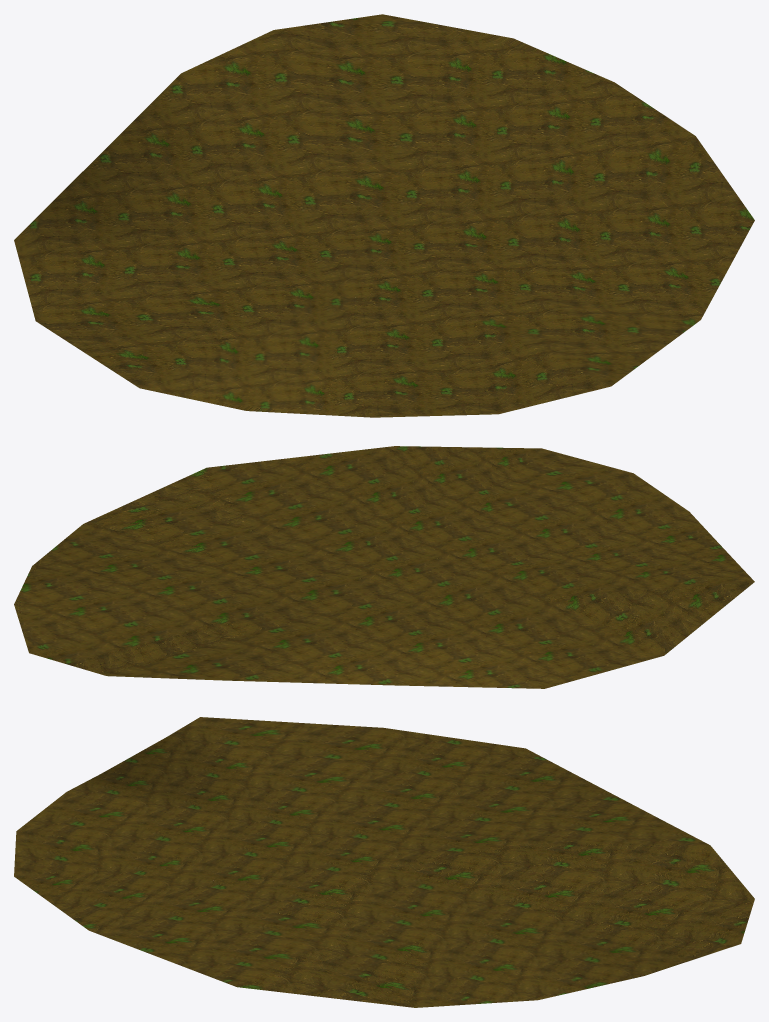
Rendered from INST_PITCOVER_GROUND.obj.
The picture shows the model from 3 angles, top to bottom: view 1: azimuth 30°, elevation 25°; view 2: azimuth 150°, elevation 25°; view 3: azimuth 270°, elevation 25°; orthographic projection. The views are drawn at different scales.
Visible parts, largest first — view 1: Object13, Object12, Object16, Object14, Object15, Object05, Object17, Object06, Object10, Object11, Object09, Object08 (+1 smaller); view 2: Object13, Object12, Object14, Object16, Object15, Object05, Object17, Object06, Object11, Object10, Object08, Object09 (+1 smaller); view 3: Object12, Object13, Object16, Object14, Object05, Object15, Object17, Object06, Object10, Object11, Object08, Object09 (+1 smaller).
Part boxes in pixels (box(x1,y1,x2,y2)): Object13: box(14, 52, 304, 280); Object12: box(227, 14, 563, 144); Object16: box(410, 249, 700, 413); Object14: box(25, 254, 287, 399); Object15: box(193, 314, 498, 417); Object05: box(474, 60, 724, 203); Object17: box(554, 178, 754, 319); Object06: box(293, 177, 469, 275); Object10: box(305, 125, 518, 198); Object11: box(451, 169, 555, 290); Object09: box(204, 140, 343, 254); Object08: box(204, 241, 364, 321); Object13: box(167, 624, 603, 688); Object12: box(14, 580, 271, 678); Object14: box(491, 568, 754, 672); Object16: box(339, 446, 633, 534); Object15: box(520, 473, 741, 571); Object05: box(23, 496, 260, 585); Object17: box(145, 446, 394, 535); Object06: box(288, 544, 468, 603); Object11: box(218, 511, 422, 568); Object10: box(199, 560, 324, 627); Object08: box(434, 554, 559, 623); Object09: box(272, 600, 490, 631); Object12: box(486, 868, 754, 987); Object13: box(418, 738, 732, 871); Object16: box(14, 831, 270, 930); Object14: box(168, 717, 454, 801); Object05: box(326, 926, 590, 1007); Object15: box(16, 736, 273, 837); Object17: box(89, 911, 352, 997); Object06: box(289, 829, 472, 899); Object10: box(404, 866, 563, 934); Object11: box(216, 874, 427, 934); Object08: box(241, 793, 417, 841); Object09: box(399, 801, 555, 868).
Size of the model in its own units: 1281 by 49.56 by 1401.
